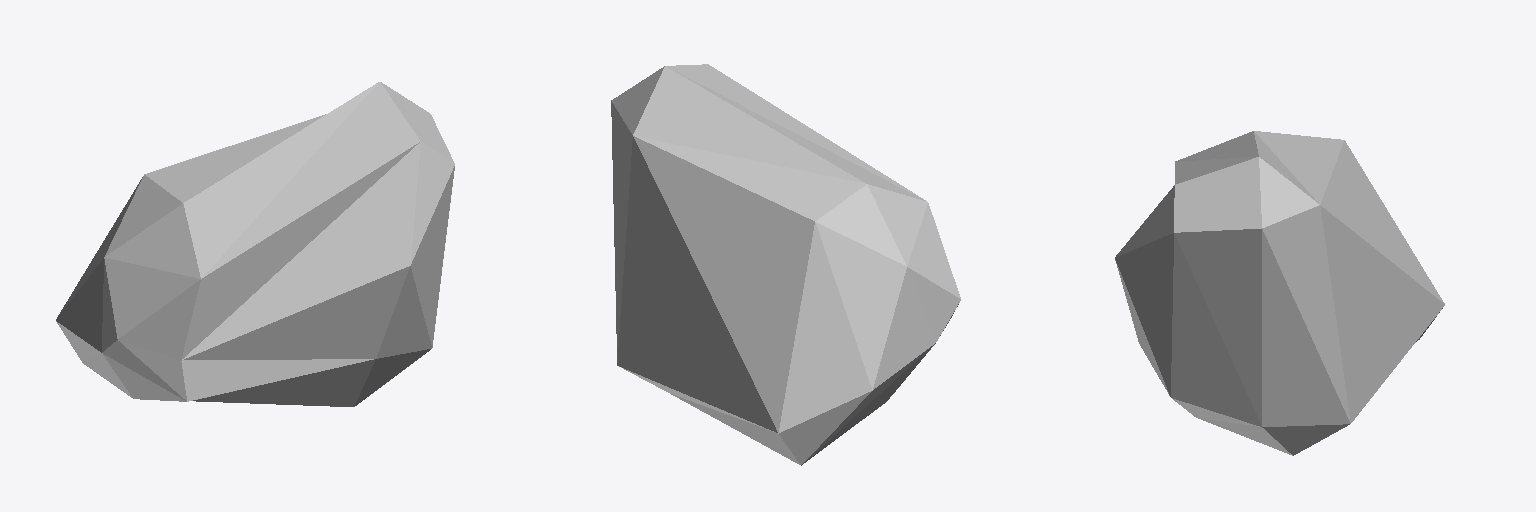
The model's file is rock_5.obj.
The picture shows the model from 3 angles: view 1: azimuth 30°, elevation 25°; view 2: azimuth 150°, elevation 25°; view 3: azimuth 270°, elevation 25°; orthographic projection.
Visible parts, largest first — view 1: Cube.003; view 2: Cube.003; view 3: Cube.003.
Part boxes in pixels (x1,y1,x2,y2): Cube.003: (56, 82, 454, 406); Cube.003: (611, 64, 960, 465); Cube.003: (1115, 131, 1444, 455).
Size of the model in its own units: 7.02 by 6.26 by 6.07.